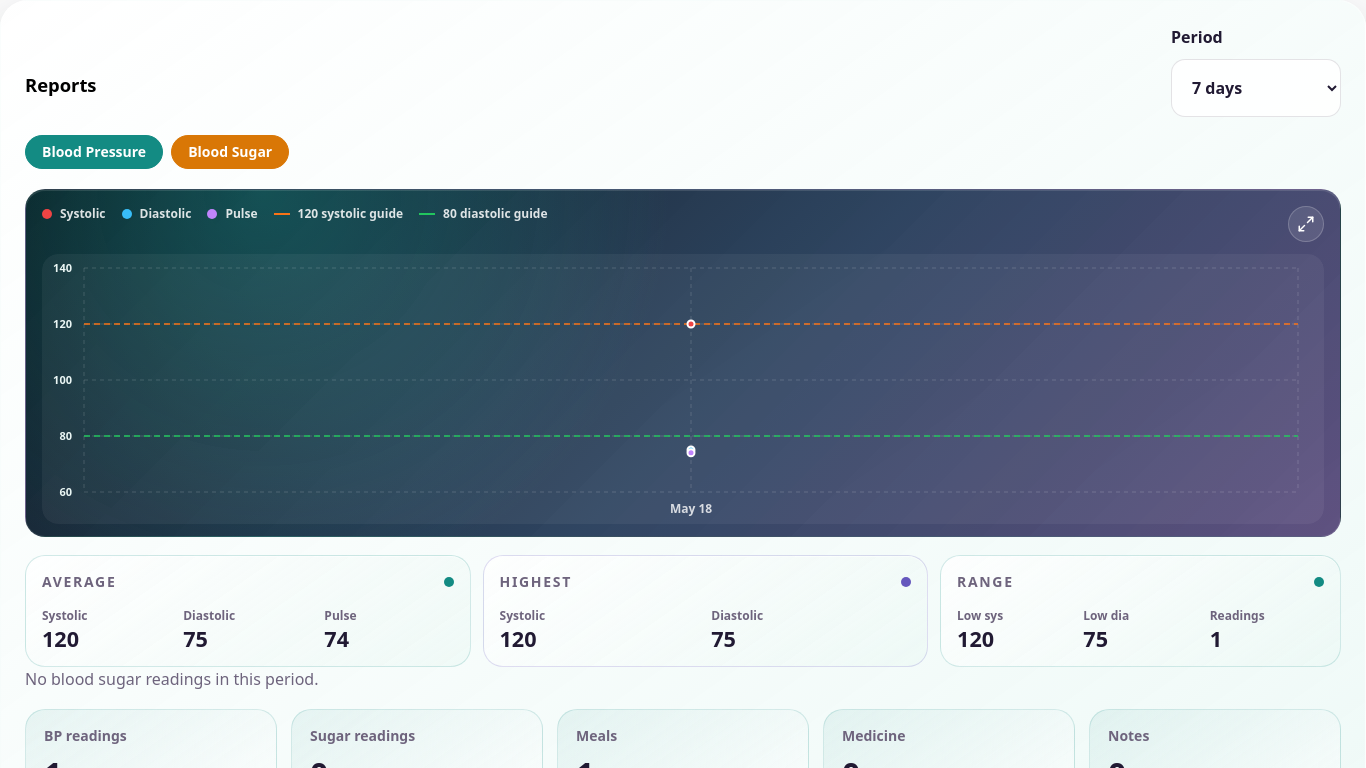
Test: ReportsPanel › renders report filters, BP stats, and context counts
The width and height of the screenshot is (1366, 768).
Check: the dropdown named "report period" shows "7 days", box [1171,59,1341,117]
Check: the text "120" is shown 3 times, box [42,624,79,653]; [500,624,537,653]; [957,624,994,653]
Click the button named "expand blood pressure chart".
click(1306, 224)  # box [1288,206,1324,242]
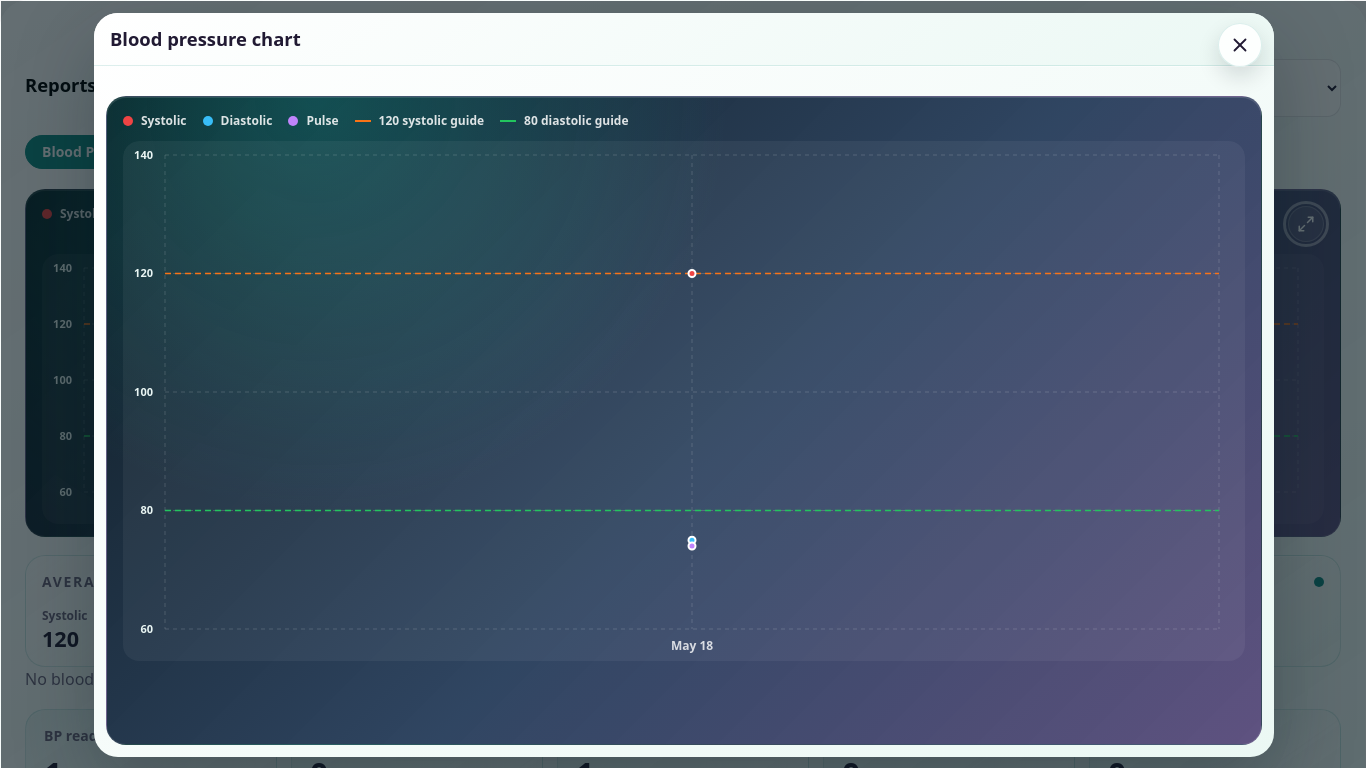
Check: the dialog named "expanded blood pressure chart" is shown
Check: the button named "close expanded blood pressure chart" is shown
Click the button named "close expanded blood pressure chart".
click(1240, 45)  # box [1218,23,1262,67]
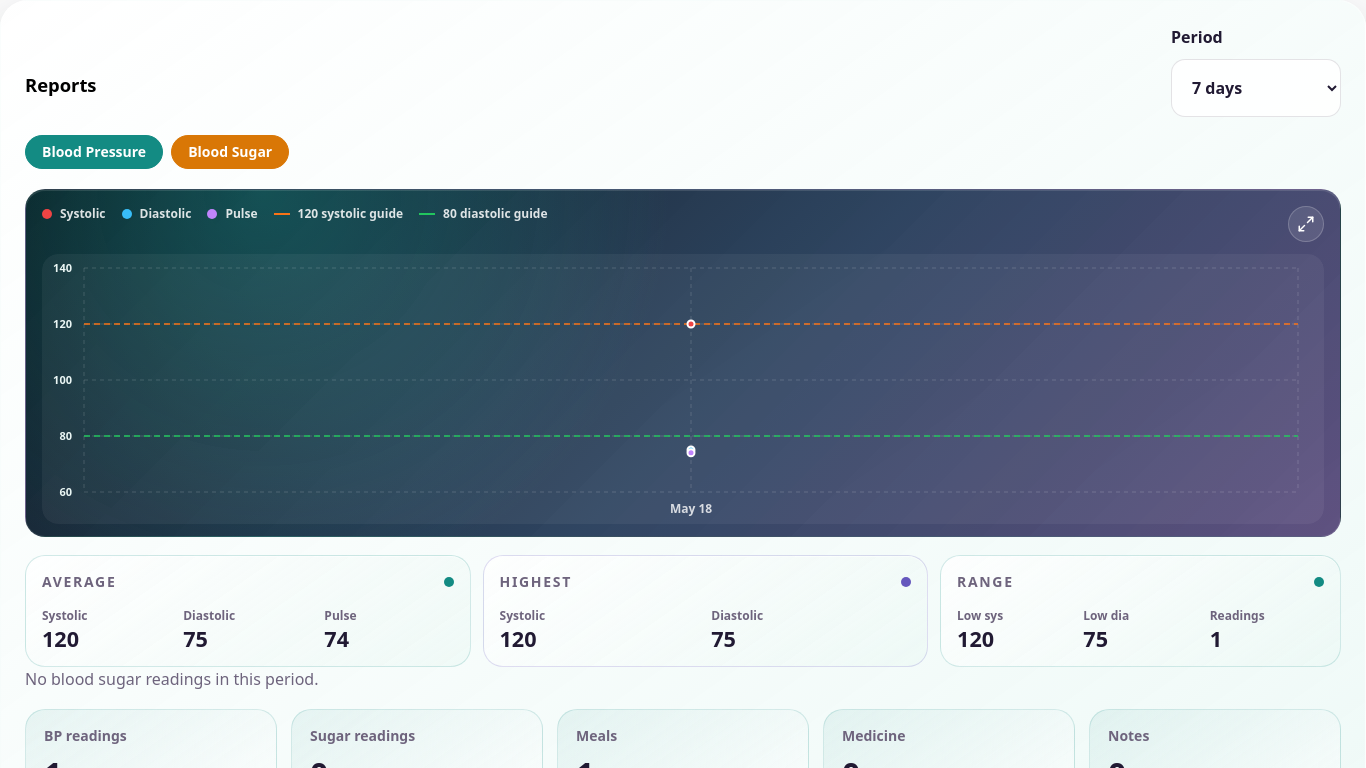
Select "Custom" in the dropdown named "report period" at (1256, 88), box [1171,59,1341,117]
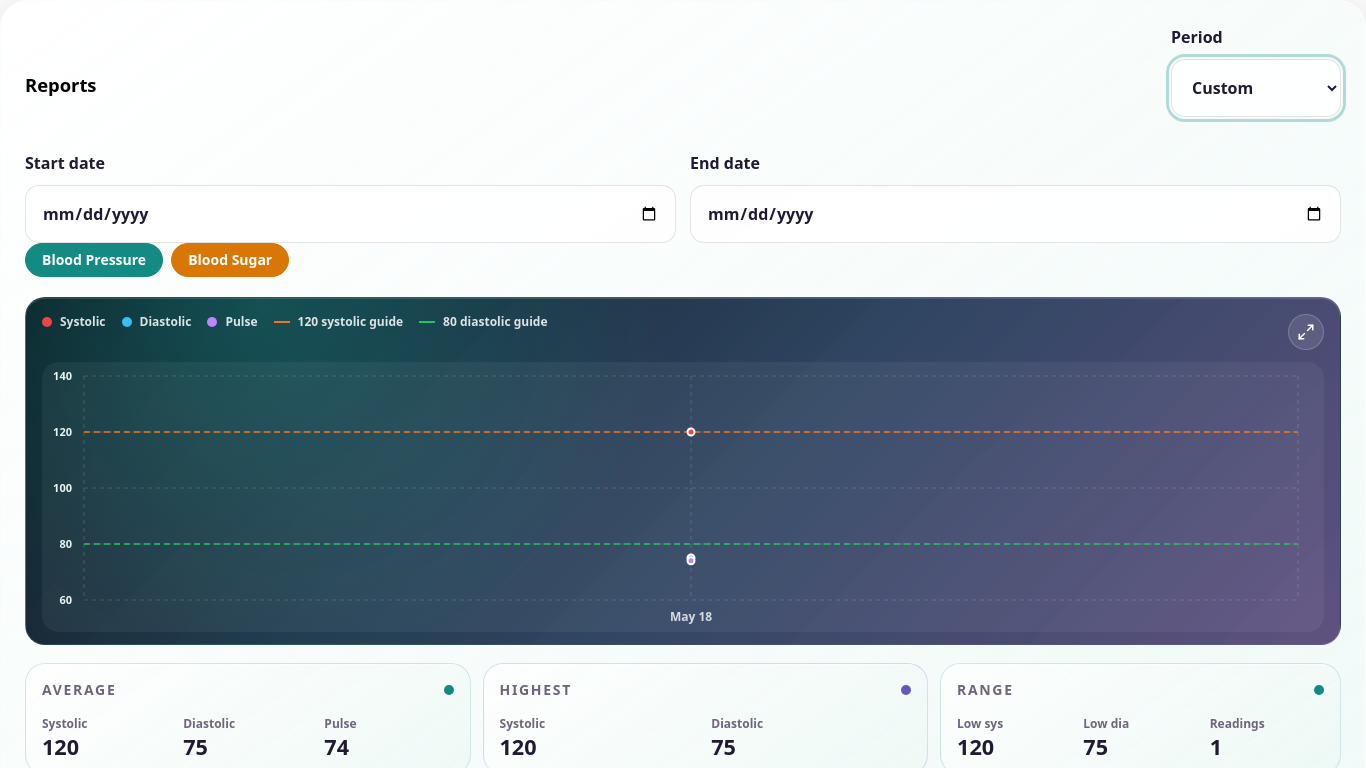
Check: the date field labelled "Start date" is shown, box [25,185,676,243]
Check: the date field labelled "End date" is shown, box [690,185,1341,243]
